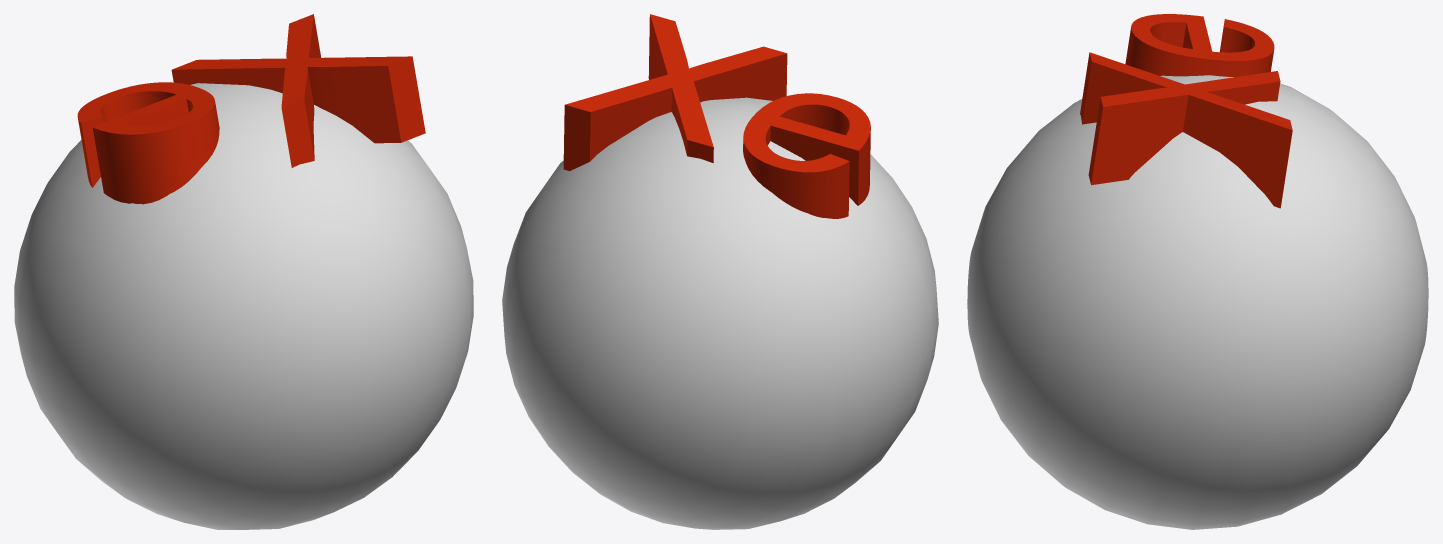
3 renders of one model, left to right at view 1: azimuth 30°, elevation 25°; view 2: azimuth 150°, elevation 25°; view 3: azimuth 270°, elevation 25°, orthographic. The views are drawn at different scales.
Visible parts, largest first — view 1: Object001; view 2: Object001; view 3: Object001.
Part boxes in pixels (x1,y1,x2,y2): Object001: [14, 14, 473, 529]; Object001: [502, 14, 938, 529]; Object001: [967, 14, 1428, 529].
Bounding box in the file's own units: 38.53 × 42.48 × 38.58.
